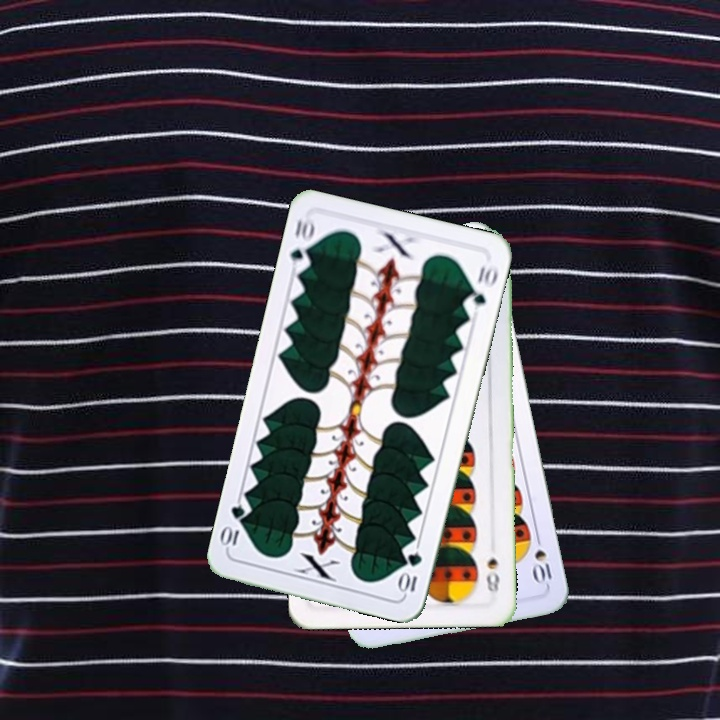G10: (286, 213, 318, 274), (396, 548, 425, 597)
S10: (530, 529, 554, 588)
S8: (482, 553, 502, 595)
